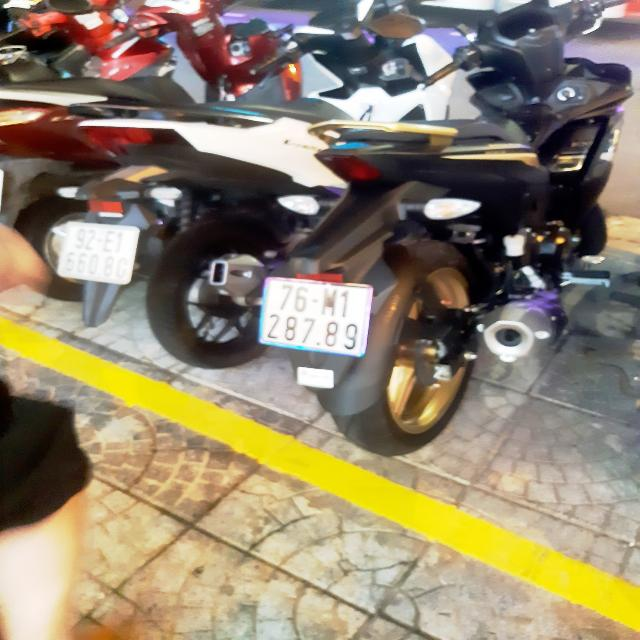license_plate: (262, 280, 374, 357), (57, 221, 142, 284)
